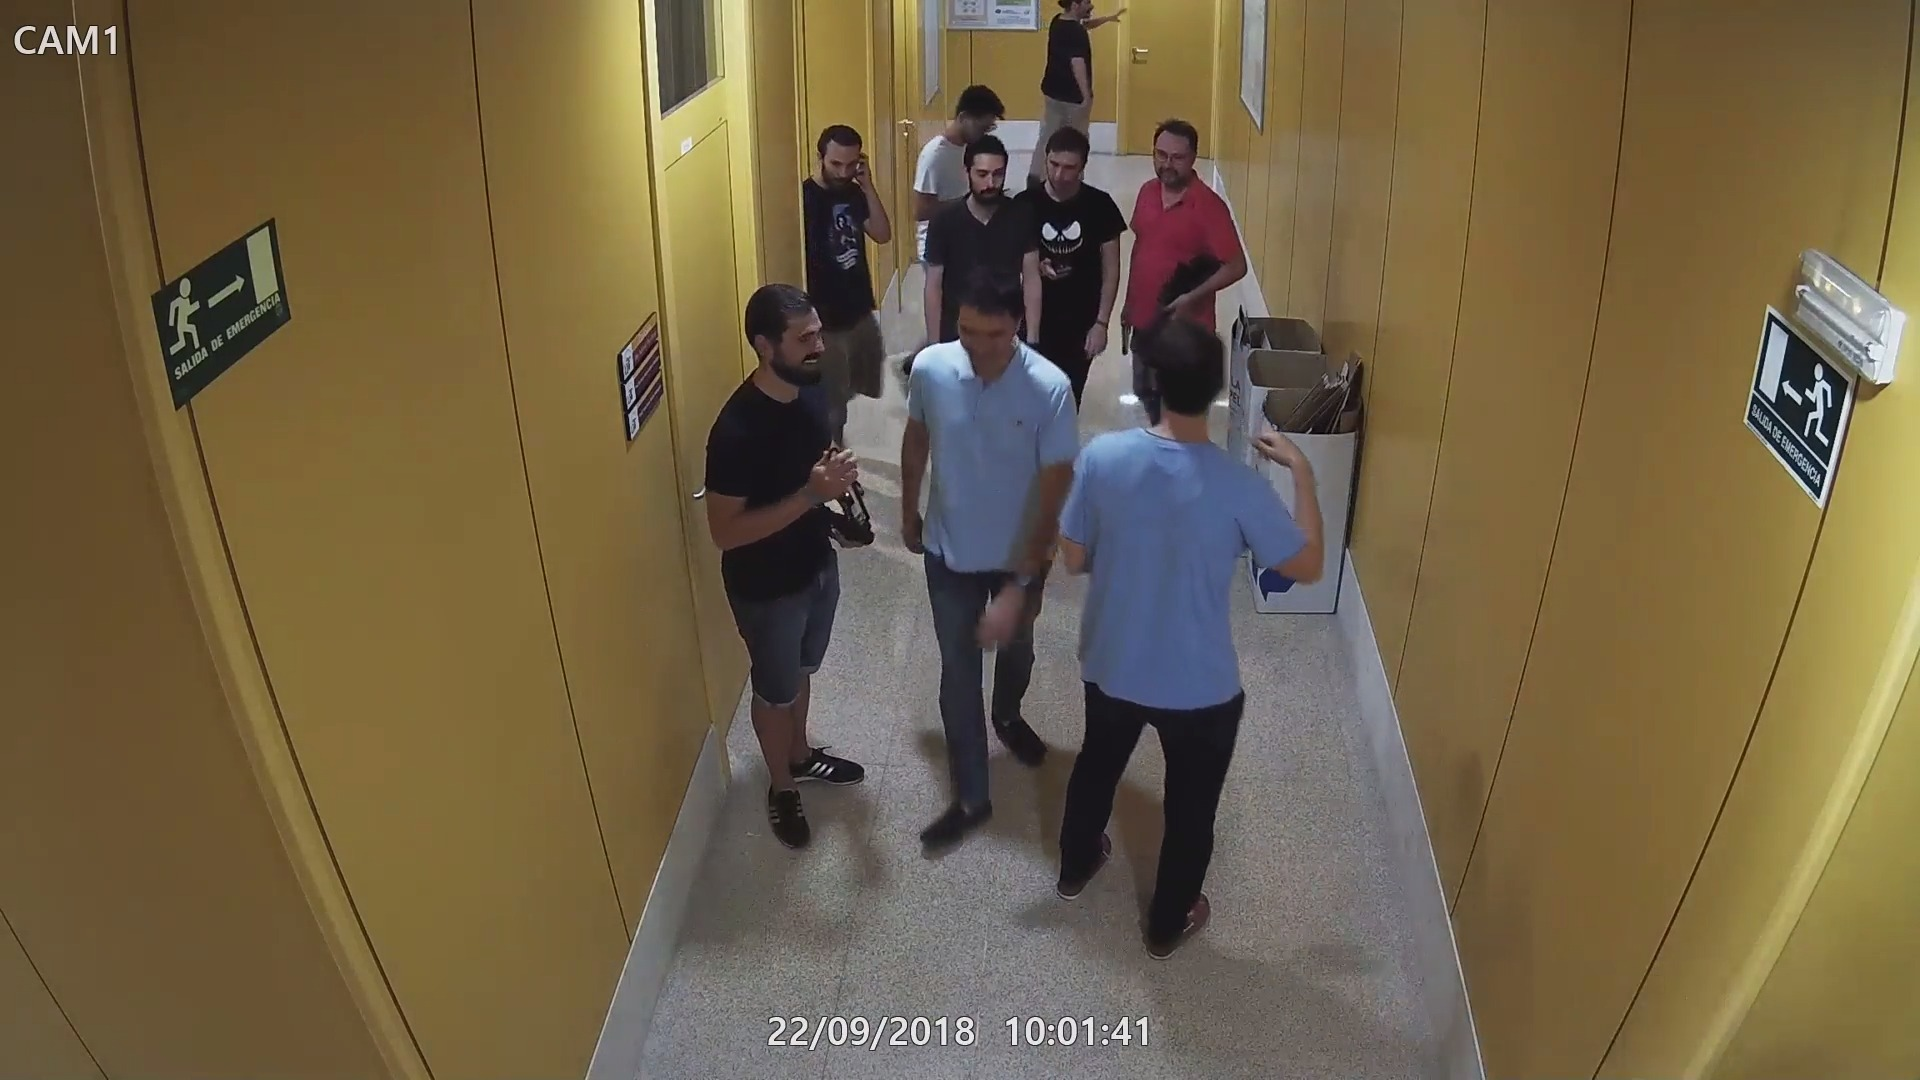Handgun: (1114, 310, 1134, 355)
Short_rifle: (1134, 255, 1213, 347), (815, 479, 876, 547)
